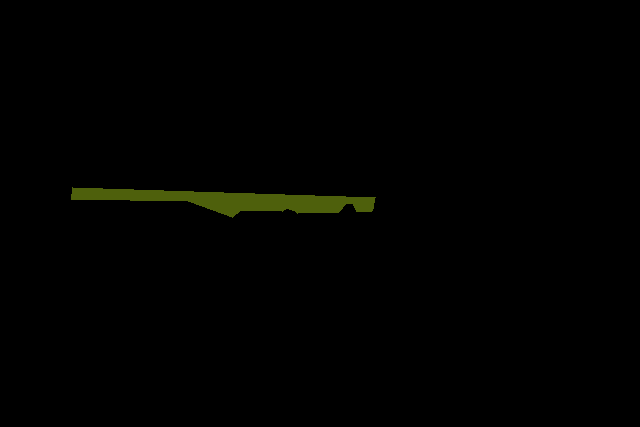Train: (71, 187, 376, 217)
